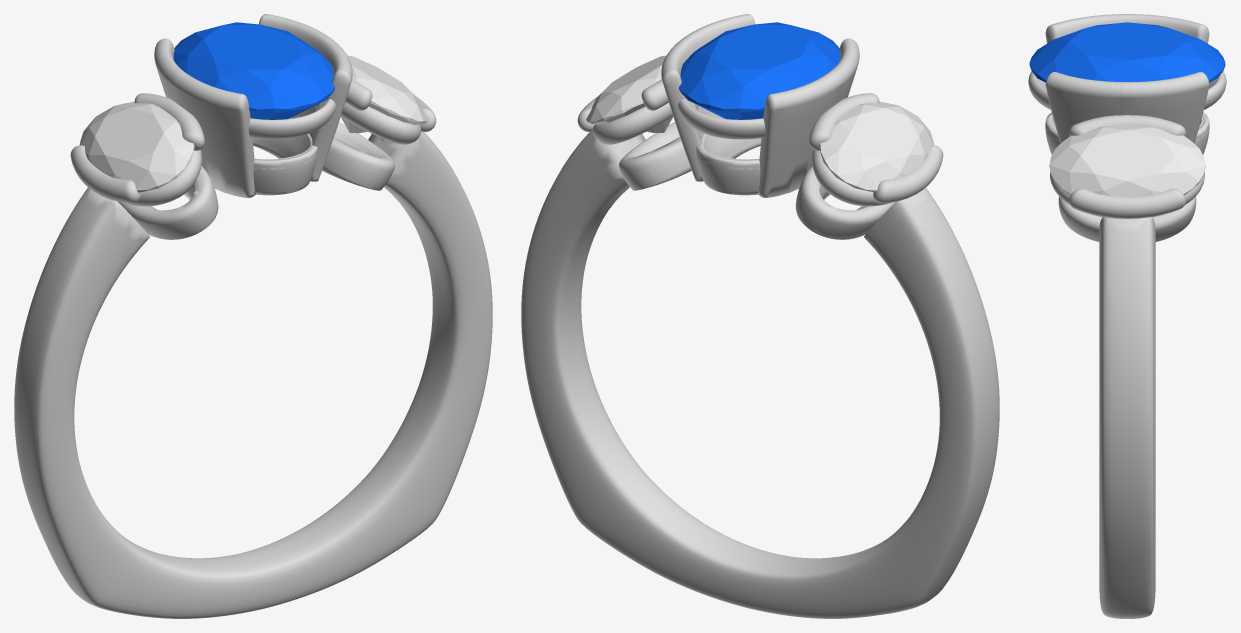
The model's file is bluesapphire-oval-platinum-halfmoonbezel-europeanshank-3stone.glb.
The picture shows the model from 3 angles, left to right: view 1: azimuth 30°, elevation 25°; view 2: azimuth 150°, elevation 25°; view 3: azimuth 270°, elevation 25°; orthographic projection. The views are drawn at different scales.
Visible parts, largest first — view 1: metal, stone.003, side.006, side.007; view 2: metal, stone.003, side.006, side.007; view 3: metal, side.007, stone.003.
Part boxes in pixels (box(x1,y1,x2,y2)): metal: box(14, 14, 492, 618); stone.003: box(173, 22, 334, 119); side.006: box(79, 101, 194, 192); side.007: box(340, 55, 427, 133); metal: box(521, 14, 999, 618); stone.003: box(679, 22, 840, 119); side.006: box(819, 101, 934, 192); side.007: box(586, 55, 673, 132); metal: box(1028, 14, 1226, 618); side.007: box(1049, 125, 1205, 196); stone.003: box(1029, 22, 1225, 82).
Size of the model in its own units: 20.1 by 23.21 by 7.75.
